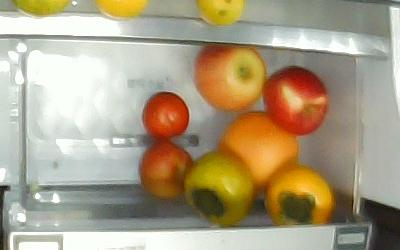apple: (191, 45, 266, 112), (260, 64, 328, 135)
grapefruit: (217, 109, 299, 193)
persimmon: (181, 148, 253, 225), (264, 165, 332, 224)
prune: (137, 139, 192, 199), (141, 90, 190, 139)
